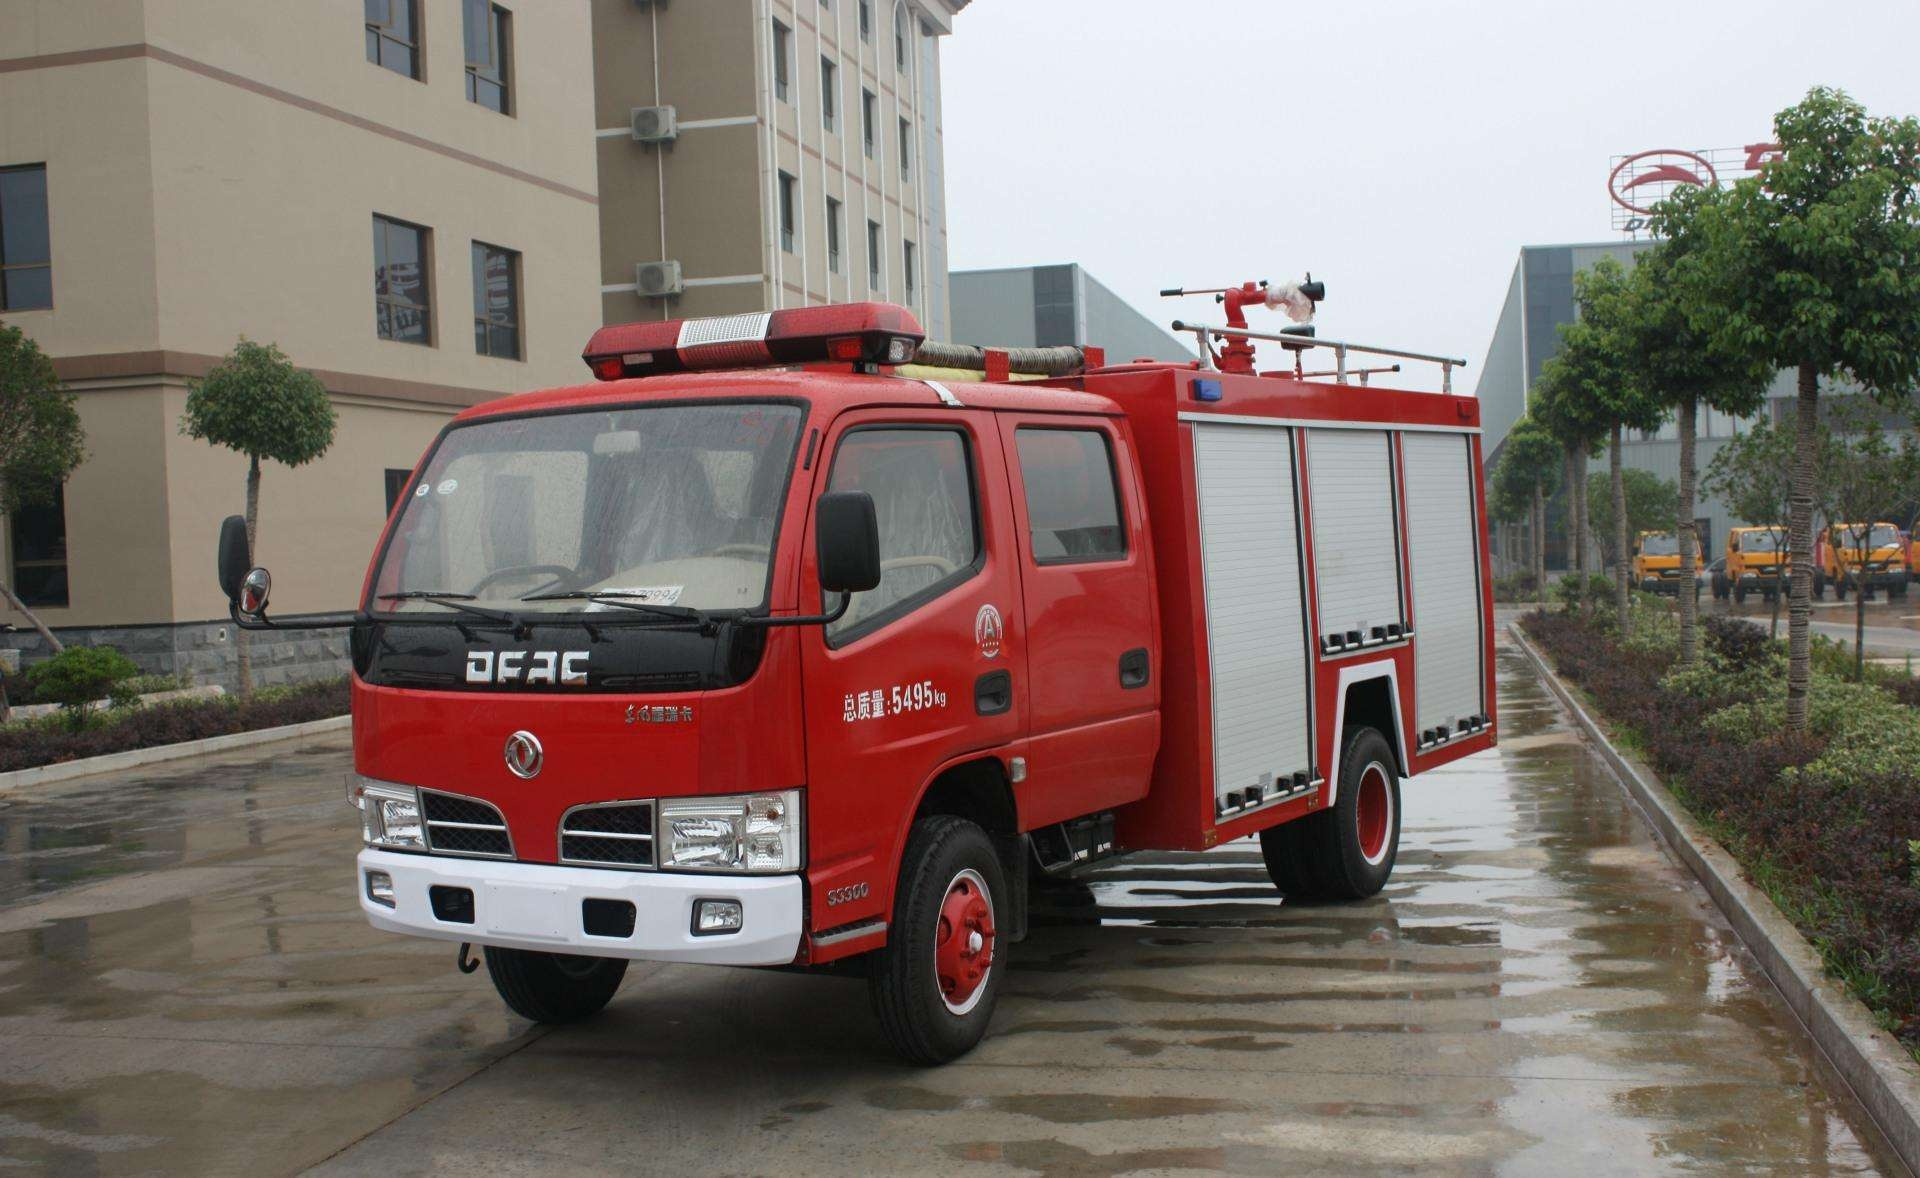fire engine: (300, 276, 1520, 1024)
